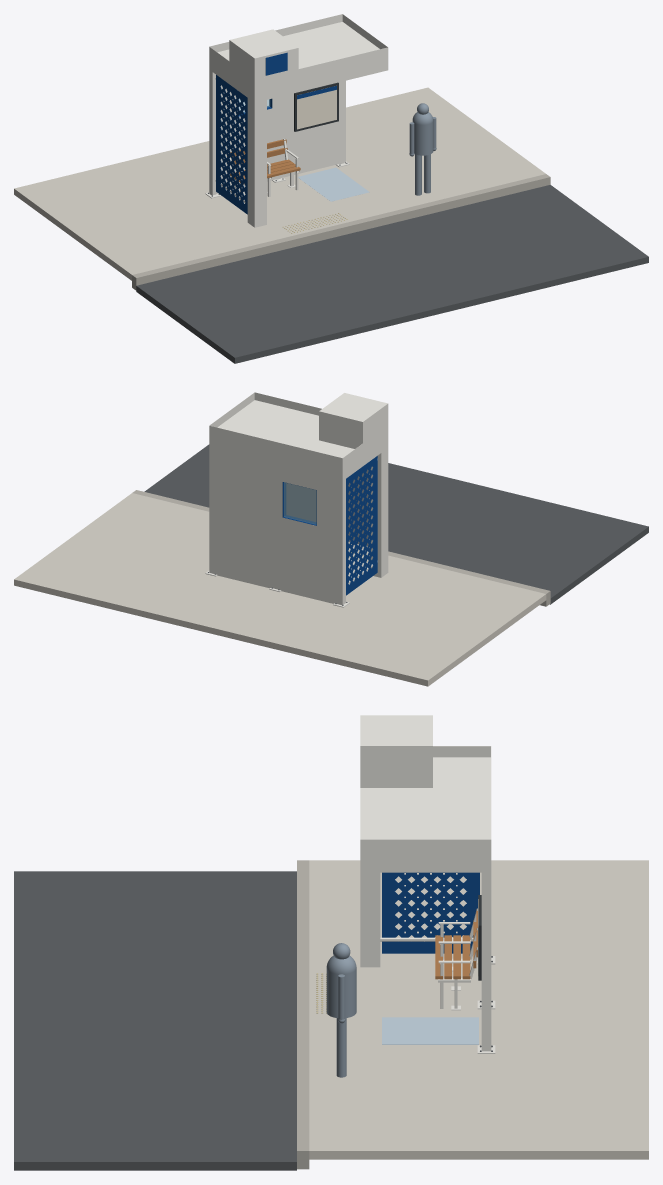
The model's file is cubista-compacto.glb.
The picture shows the model from 3 angles, top to bottom: view 1: azimuth 30°, elevation 25°; view 2: azimuth 150°, elevation 25°; view 3: azimuth 270°, elevation 25°; orthographic projection. The views are drawn at different scales.
Parts seen in each view (by area): view 1: A0-faixa-01, A0-passeio-01, A0-lancil-01, A2.1-revestimento-07, A3.1-chapa-perfurada-01, A2.1-revestimento-03, A2.1-revestimento-02, A0-figura-01, A2.1-revestimento-12, A0-zona-cadeira-rodas-01, A4.3-painel-cartaz-01, A2.1-revestimento-18 (+6 smaller); view 2: A0-passeio-01, A0-faixa-01, A2.1-revestimento-06, A3.1-chapa-perfurada-01, A2.1-revestimento-02, A2.1-revestimento-15, A0-lancil-01, A3.2-vidro-janela-01, A2.1-revestimento-18, A2.1-revestimento-04, A2.1-revestimento-10, A2.1-revestimento-13 (+3 smaller); view 3: A0-faixa-01, A0-passeio-01, A2.1-revestimento-02, A3.1-chapa-perfurada-01, A2.1-revestimento-05, A0-lancil-01, A2.1-revestimento-17, A0-zona-cadeira-rodas-01, A0-figura-01, A2.1-revestimento-18, A2.1-revestimento-11, A2.1-revestimento-09 (+3 smaller).
Part boxes in pixels (left/top/right/bottom): A0-faixa-01: left=136, top=184, right=648, bottom=363; A0-passeio-01: left=14, top=87, right=545, bottom=280; A0-lancil-01: left=132, top=174, right=550, bottom=290; A2.1-revestimento-07: left=212, top=72, right=345, bottom=194; A3.1-chapa-perfurada-01: left=216, top=75, right=247, bottom=214; A2.1-revestimento-03: left=254, top=47, right=388, bottom=102; A2.1-revestimento-02: left=217, top=22, right=379, bottom=68; A0-figura-01: left=409, top=103, right=436, bottom=195; A2.1-revestimento-12: left=255, top=100, right=266, bottom=227; A0-zona-cadeira-rodas-01: left=298, top=167, right=369, bottom=201; A4.3-painel-cartaz-01: left=297, top=90, right=336, bottom=129; A2.1-revestimento-18: left=230, top=29, right=298, bottom=58; A0-passeio-01: left=14, top=493, right=546, bottom=686; A0-faixa-01: left=144, top=444, right=648, bottom=604; A2.1-revestimento-06: left=209, top=425, right=342, bottom=604; A3.1-chapa-perfurada-01: left=346, top=456, right=377, bottom=595; A2.1-revestimento-02: left=217, top=400, right=354, bottom=457; A2.1-revestimento-15: left=319, top=411, right=362, bottom=448; A0-lancil-01: left=132, top=490, right=550, bottom=606; A3.2-vidro-janela-01: left=284, top=482, right=316, bottom=524; A2.1-revestimento-18: left=319, top=393, right=387, bottom=421; A2.1-revestimento-04: left=342, top=425, right=388, bottom=480; A2.1-revestimento-10: left=381, top=448, right=388, bottom=577; A2.1-revestimento-13: left=369, top=453, right=380, bottom=577; A0-faixa-01: left=14, top=871, right=296, bottom=1170; A0-passeio-01: left=309, top=860, right=648, bottom=1159; A2.1-revestimento-02: left=360, top=757, right=490, bottom=839; A3.1-chapa-perfurada-01: left=382, top=872, right=479, bottom=953; A2.1-revestimento-05: left=360, top=839, right=490, bottom=872; A0-lancil-01: left=297, top=860, right=309, bottom=1169; A2.1-revestimento-17: left=360, top=746, right=432, bottom=787; A0-zona-cadeira-rodas-01: left=382, top=1017, right=478, bottom=1044; A0-figura-01: left=326, top=943, right=356, bottom=1077; A2.1-revestimento-18: left=360, top=715, right=432, bottom=745; A2.1-revestimento-11: left=360, top=872, right=380, bottom=967; A2.1-revestimento-09: left=481, top=872, right=491, bottom=1051.
Size of the model in its own units: 8500 by 4060 by 7850.
